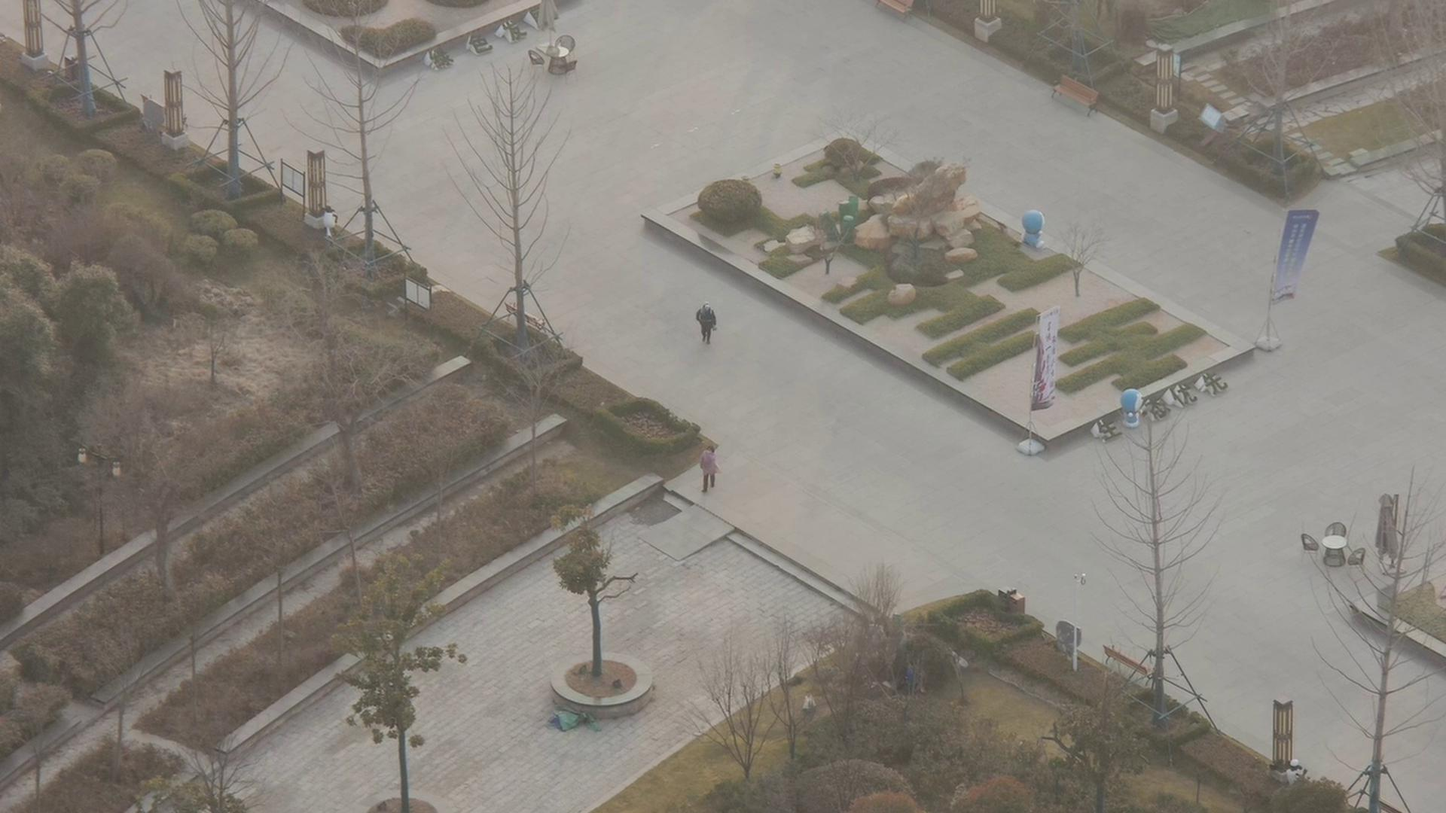human: (689, 290, 729, 351), (695, 437, 728, 497)
